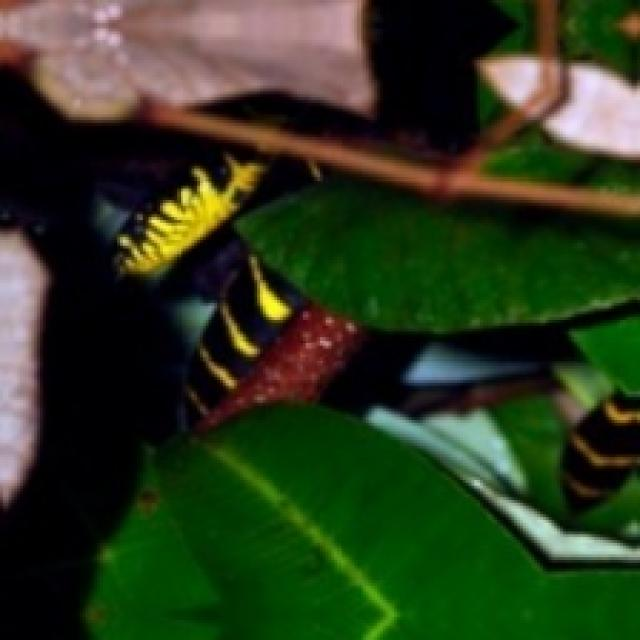mangrove cat snake: (115, 150, 326, 429), (565, 398, 640, 505)
